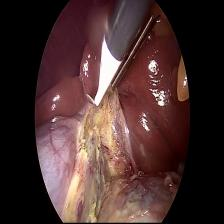Grasper: (108, 14, 157, 99)
Hook: (79, 40, 121, 113)
